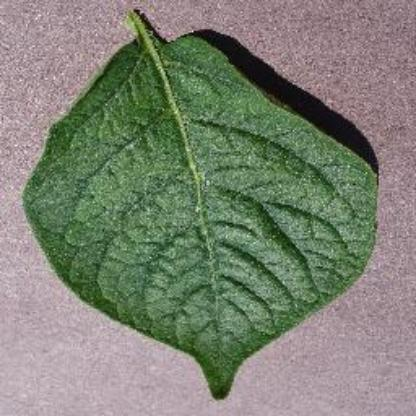Healthy-plant: (22, 7, 380, 400)
